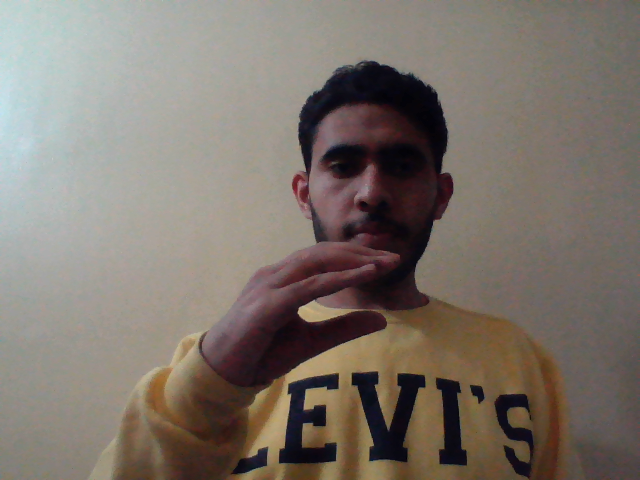C: (195, 235, 408, 393)
